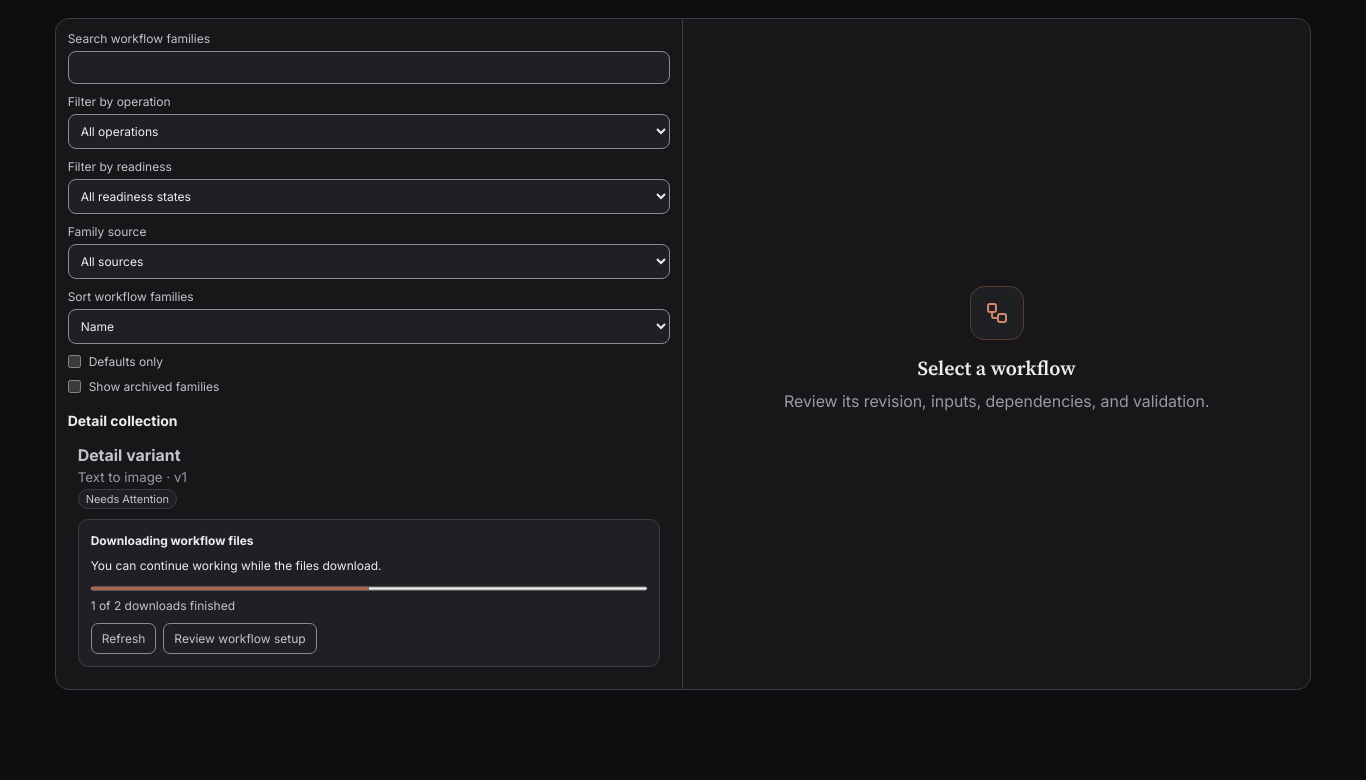
Test case: announces one installation once where the list, its variants and its details all show it
The width and height of the screenshot is (1366, 780).
(page scrolled)
Check: the heading "Detail collection" is shown, box [68,412,178,429]
Click the button "Review workflow setup": (240, 638) [163,623,317,654]
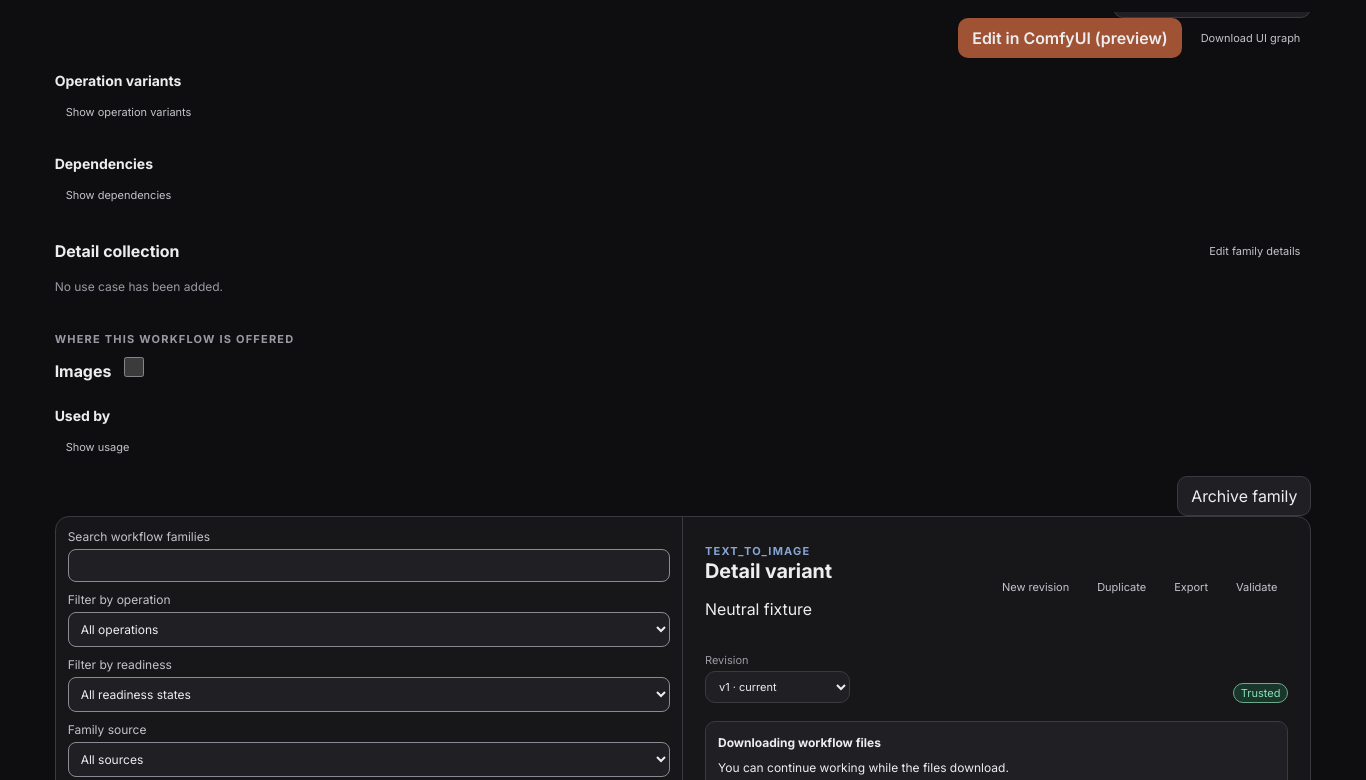
Click the button "Show operation variants": (128, 112) [55,97,202,127]
(page scrolled)
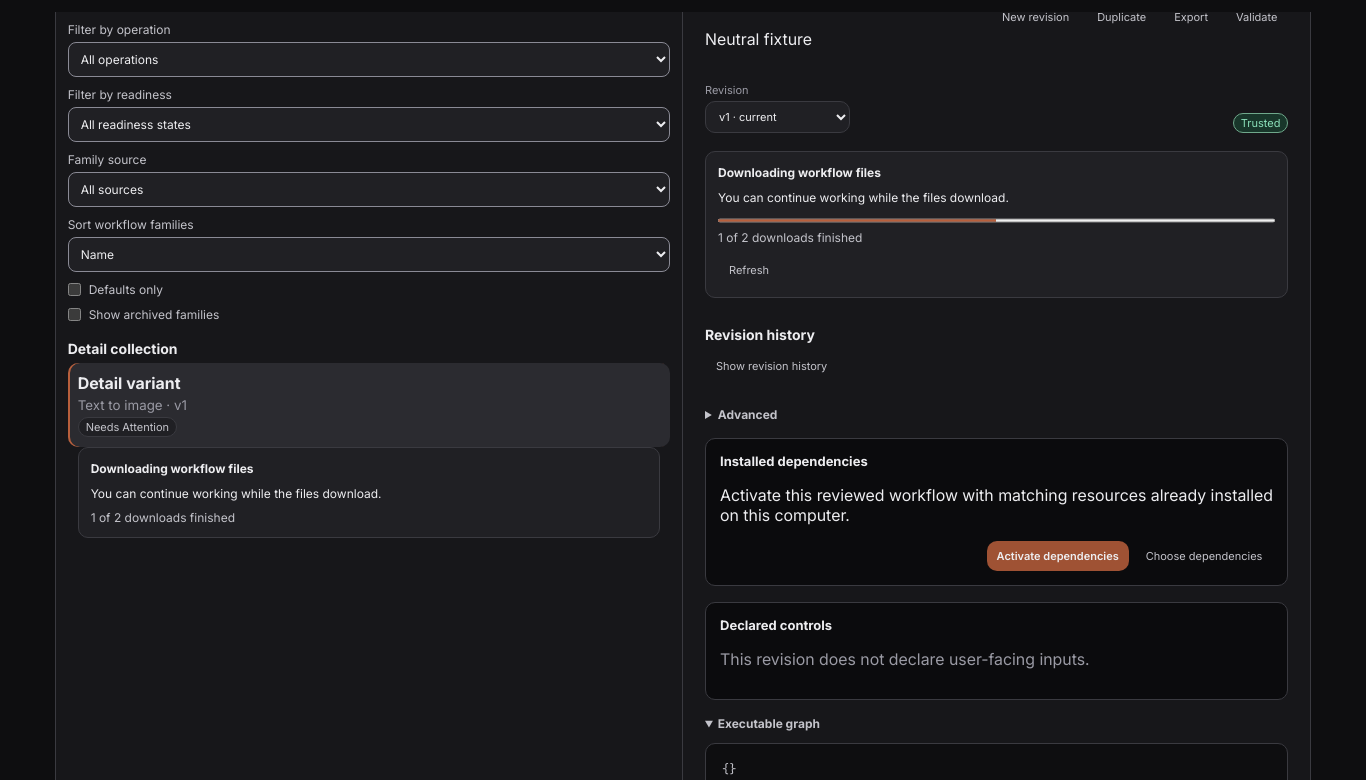
Check: the text "Downloading workflow files" is shown 3 times
Check: the number of buttons named "Refresh installation status" is 1, box [718,254,780,284]
Check: the text "1 of 2 downloads finished" is shown 3 times
